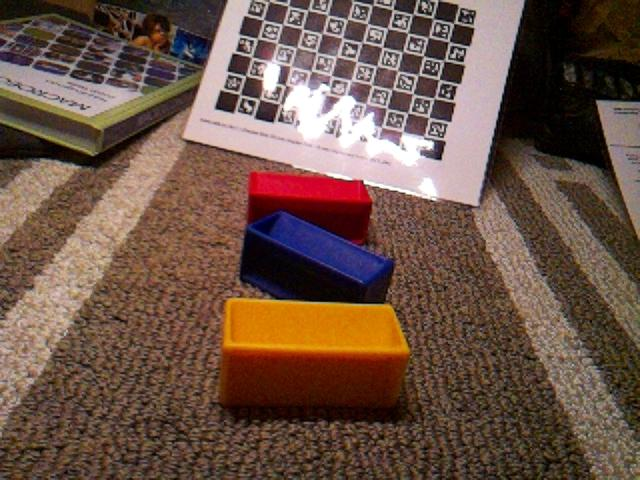blue: (238, 208, 396, 304)
red: (245, 169, 374, 246)
yellow: (218, 296, 412, 412)
